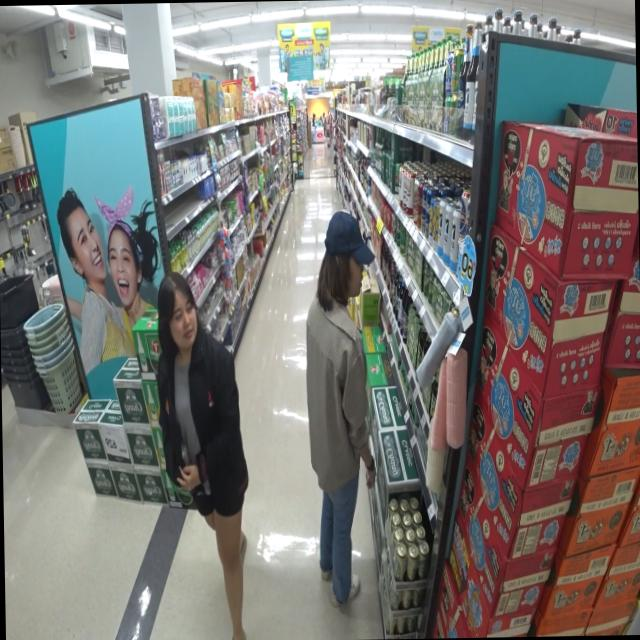shoplifting: (159, 269, 242, 640)
